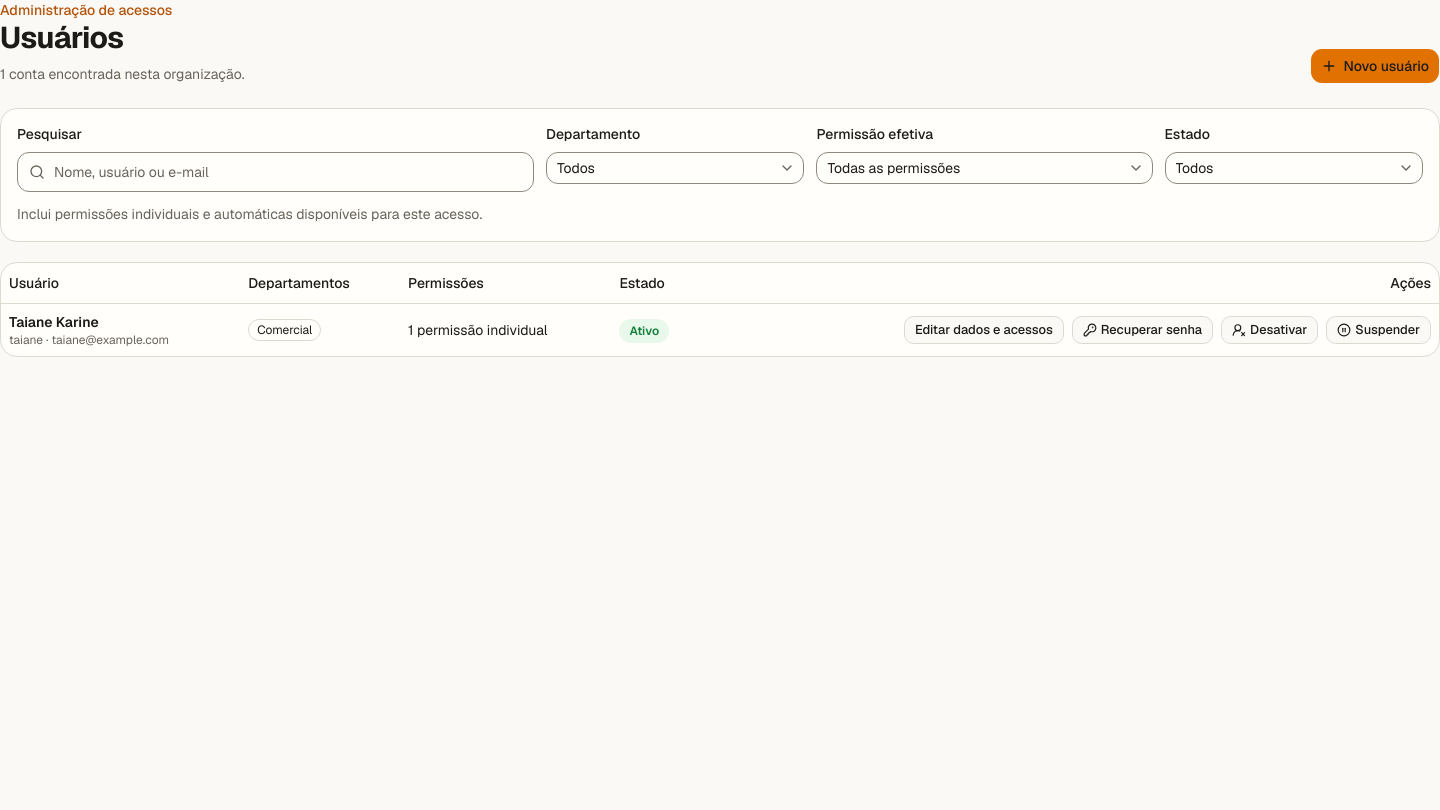
Scenario: user editor form › does not expose administrator assignment when creating a user
Click the button "Novo usuário" at {"x": 1375, "y": 66}, box left=1310, top=48, right=1439, bottom=84
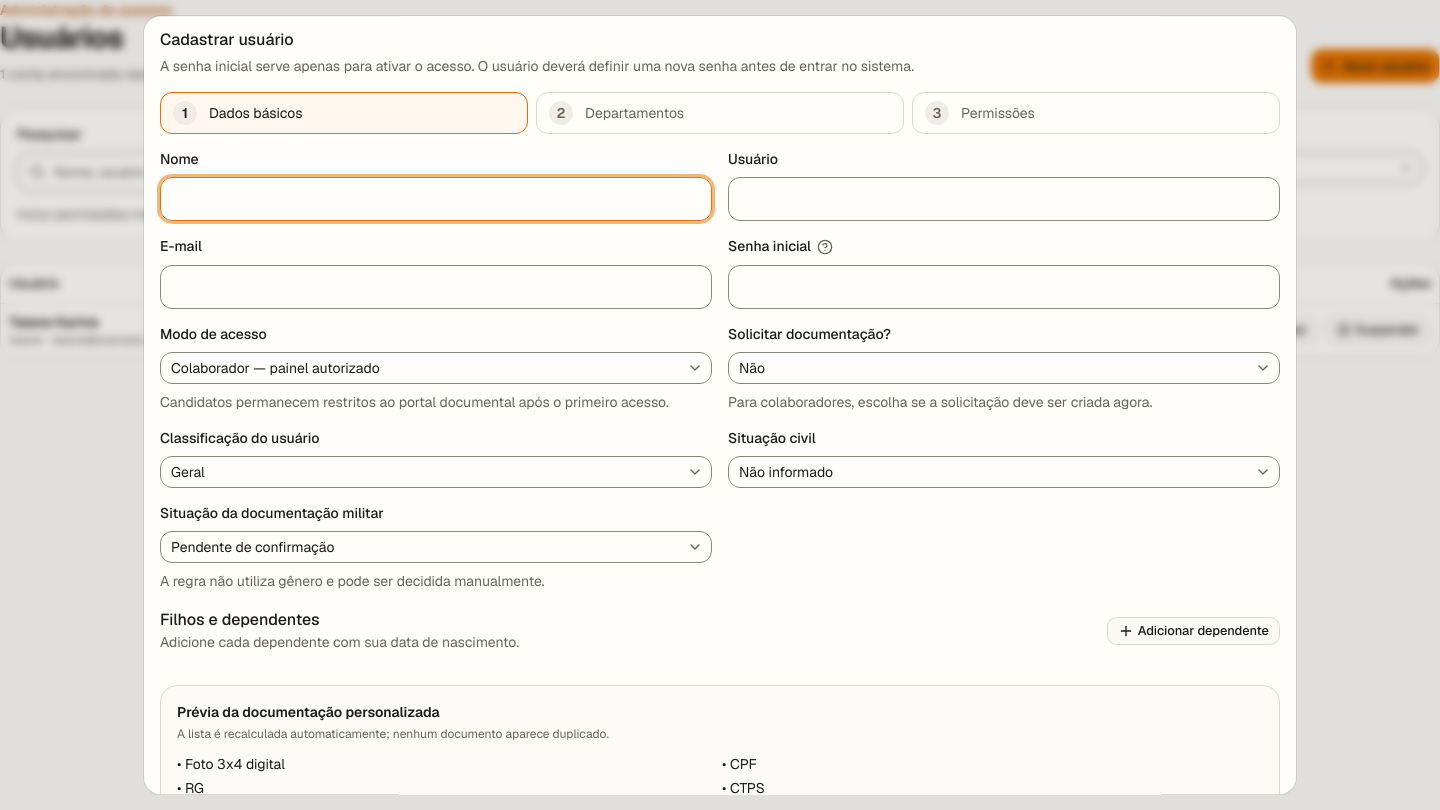
Type "Admin Lume" into the field labelled "Nome" at {"x": 436, "y": 200}, box left=160, top=178, right=712, bottom=222
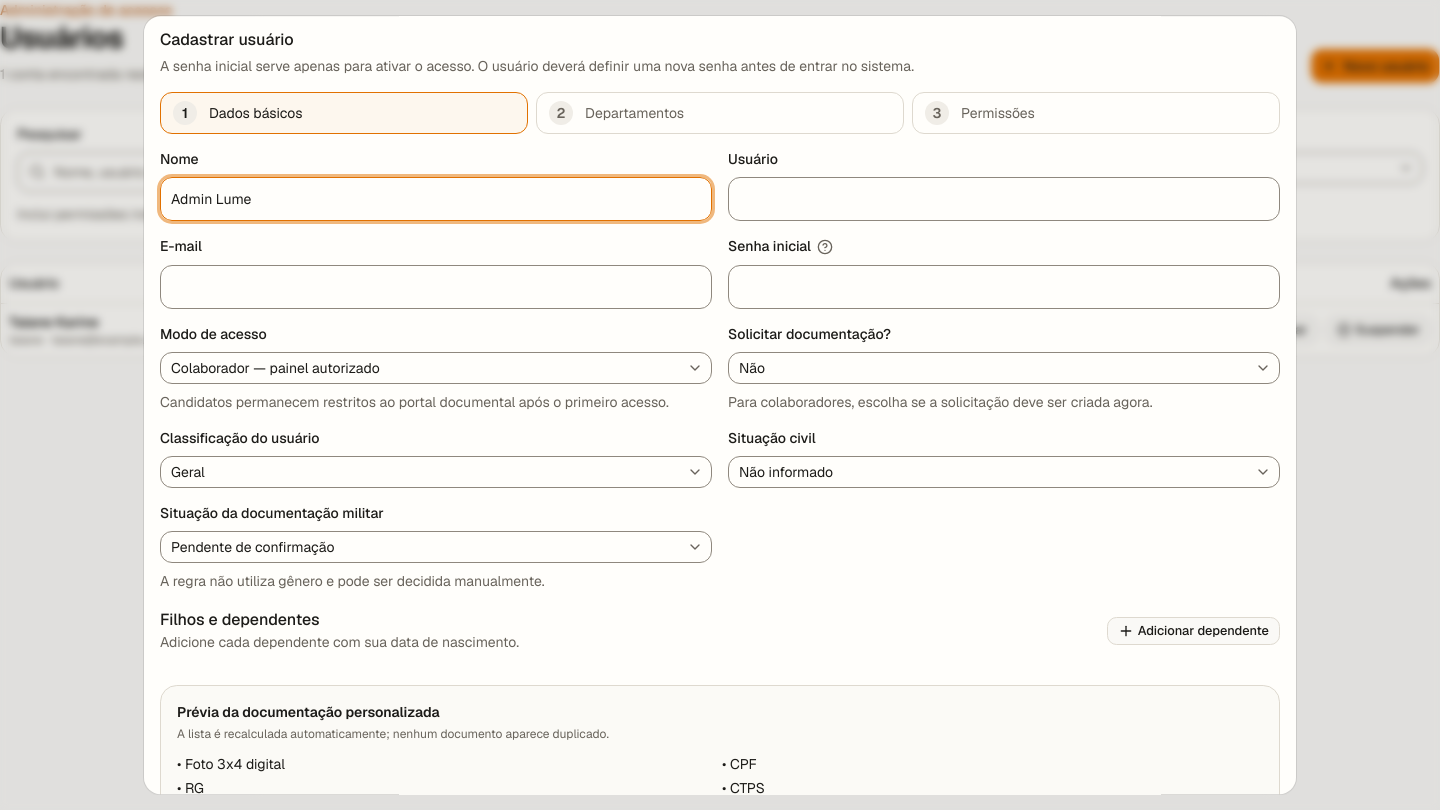
Type "admin.lume" into the field labelled "Usuário" at {"x": 1004, "y": 200}, box left=728, top=178, right=1280, bottom=222
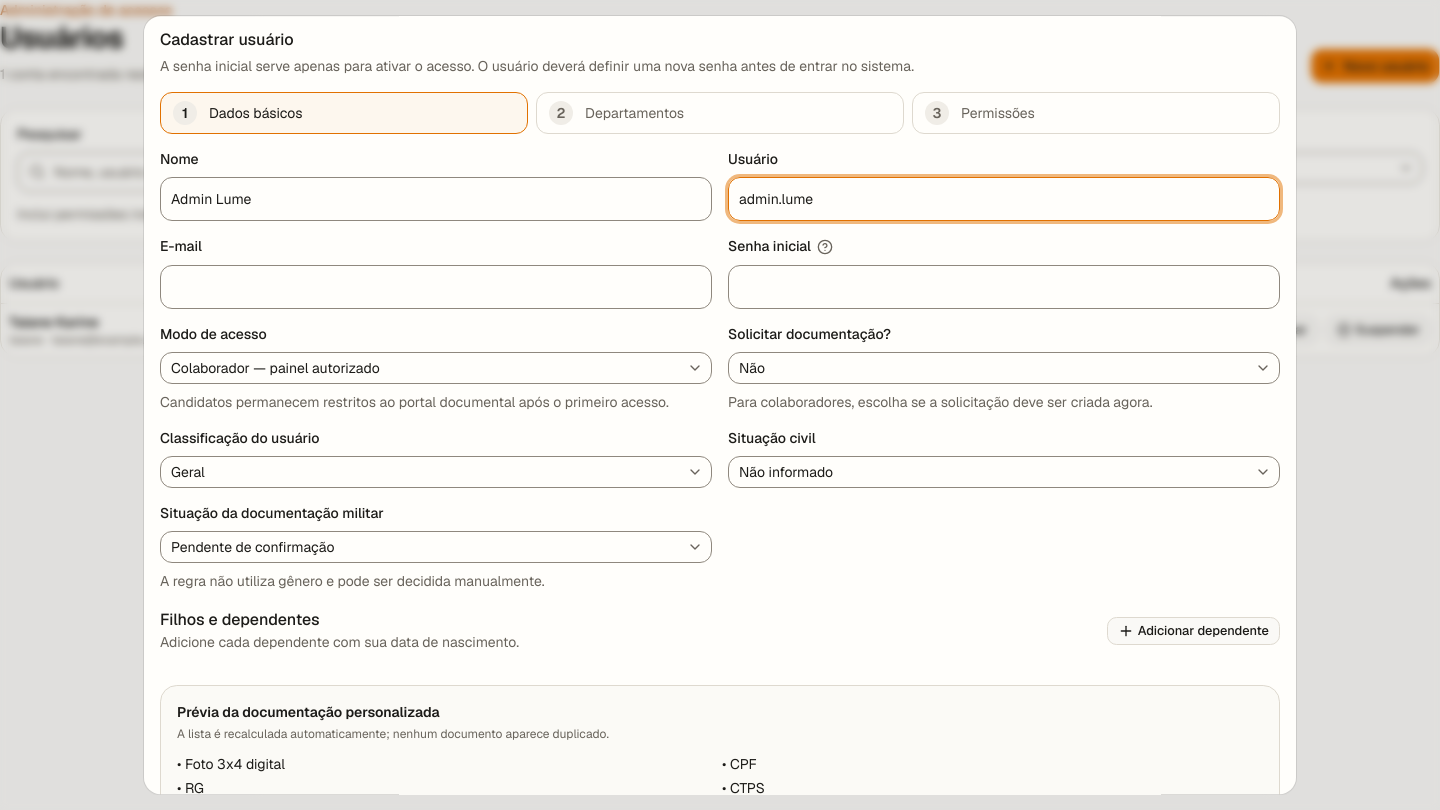
Type "admin@example.com" into the field labelled "E-mail" at {"x": 436, "y": 287}, box left=160, top=265, right=712, bottom=309
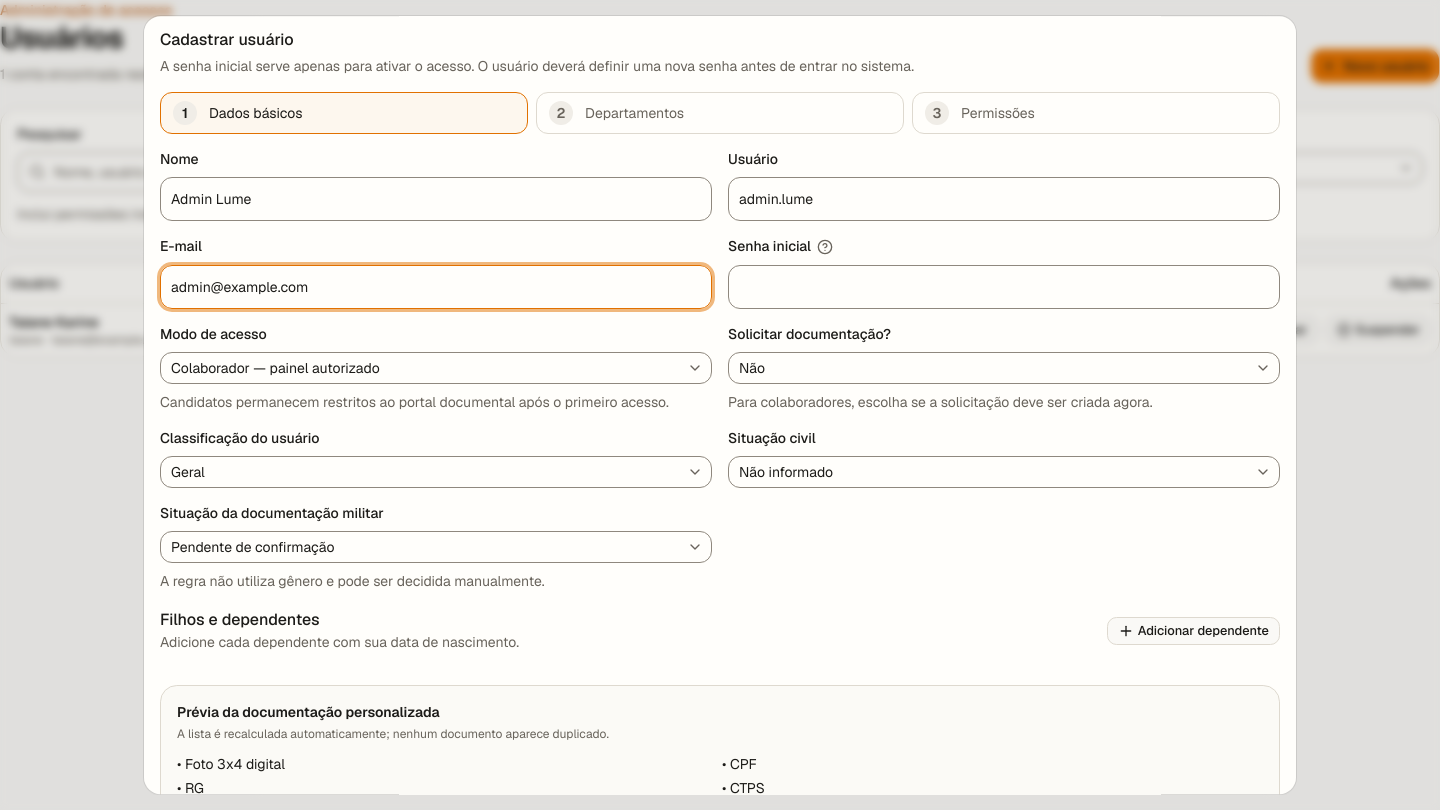
Type "SenhaForte@2026" into the password field labelled "Senha inicial" at {"x": 1004, "y": 287}, box left=728, top=265, right=1280, bottom=309
(page scrolled)
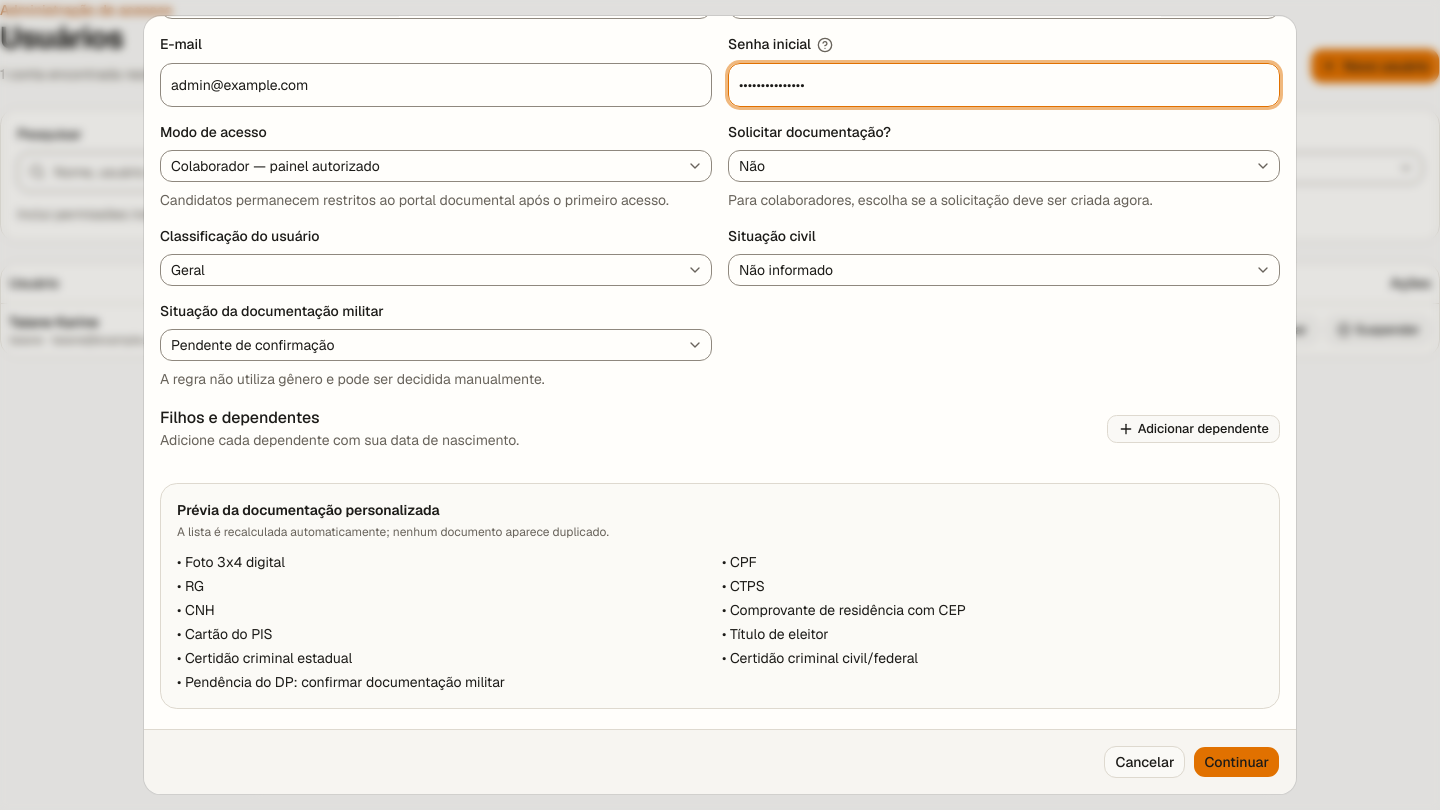
Click the button "Continuar" at {"x": 1237, "y": 762}, box left=1193, top=746, right=1280, bottom=778
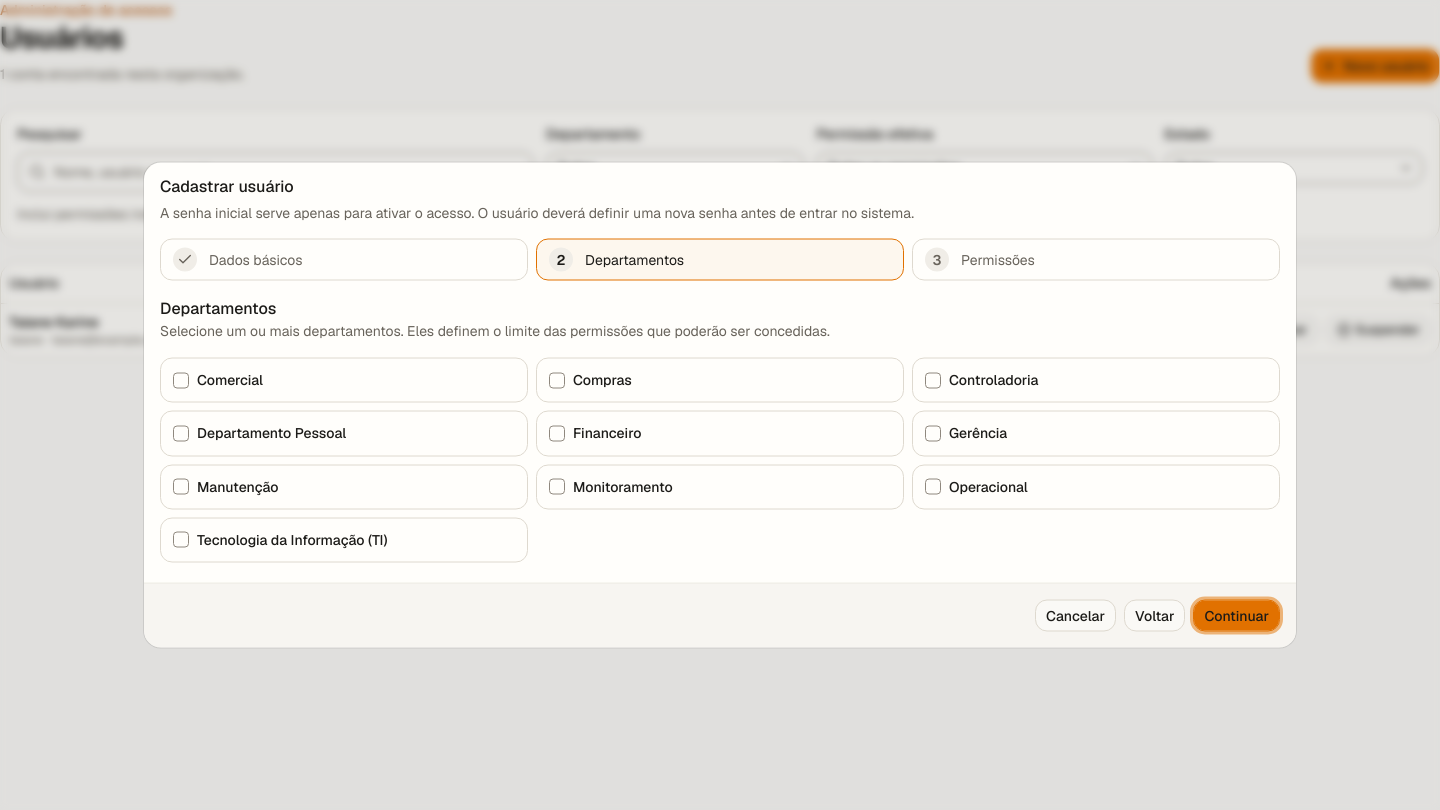
Expected: the text "Selecione um ou mais departamentos" is shown, left=160, top=322, right=830, bottom=340
